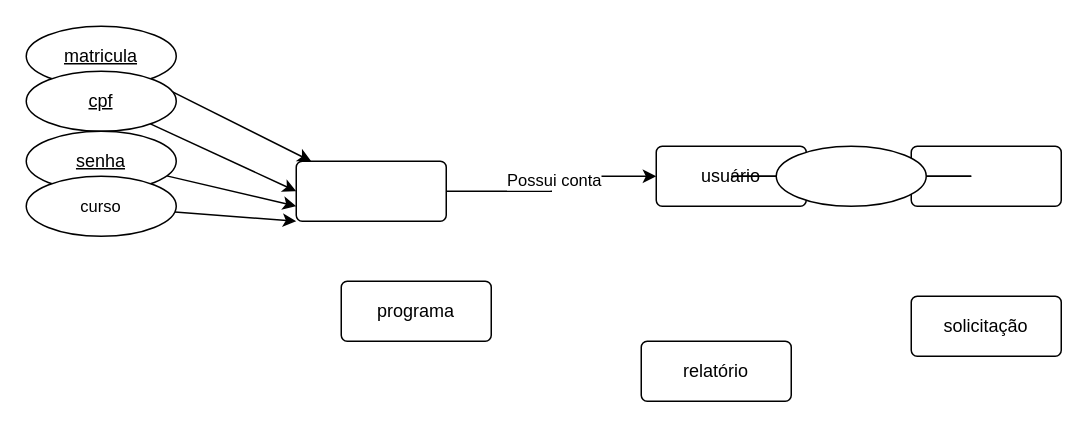
Image size: 1088x428. Some labels were removed from this diagram. Here are the shapes that lost their labels. From the top down, the centre of each, then its label:
At (x=370, y=190): "Aluno".
At (x=850, y=175): "Attribute".
At (x=985, y=175): "Assistente social".
